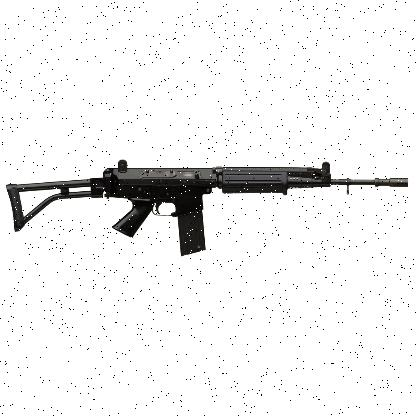gun: (6, 158, 408, 256)
